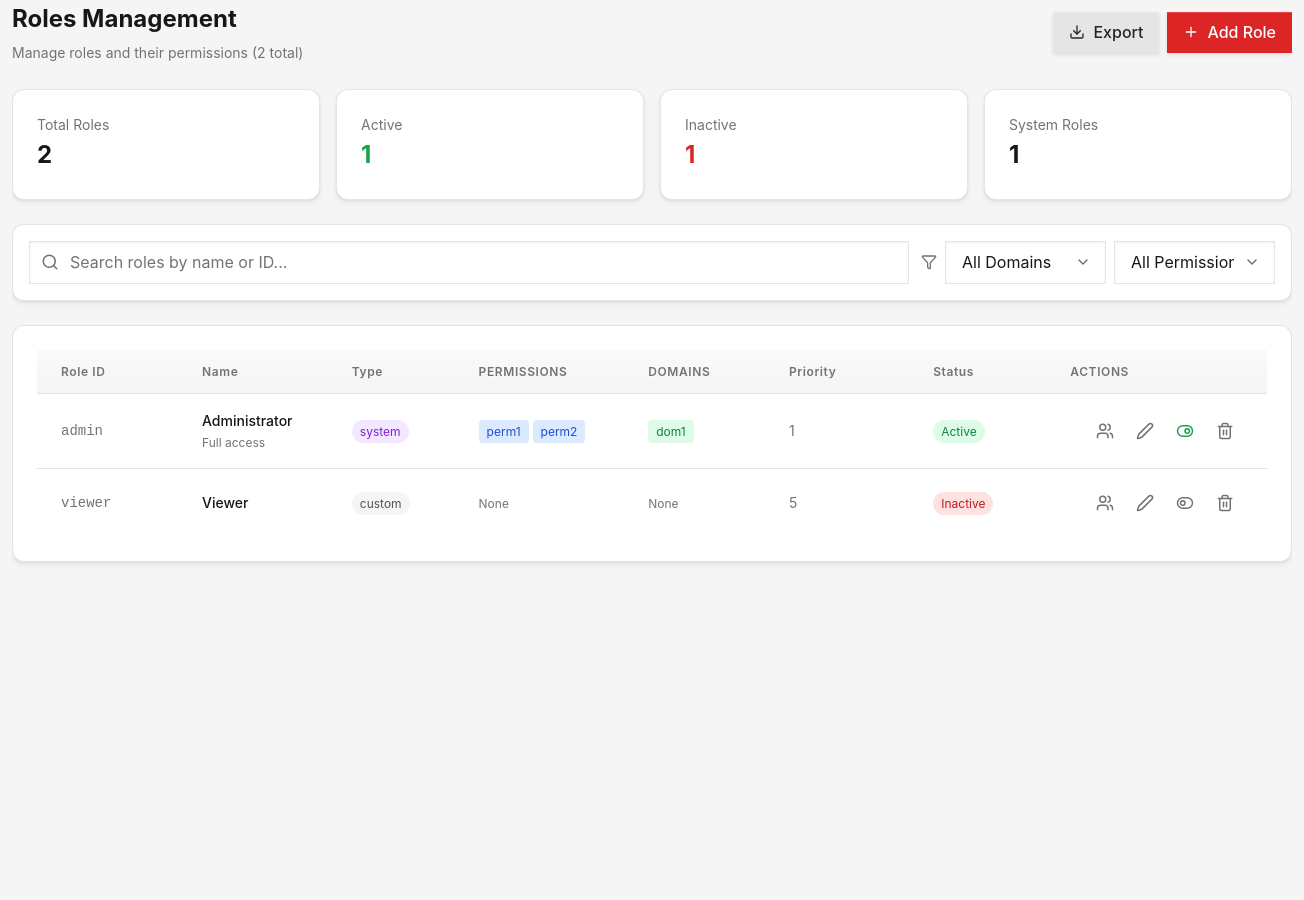
Test case: RolesManagement › handles delete with confirmation
The width and height of the screenshot is (1304, 900).
Expected: the text "Administrator" is shown, [202,410,304,433]
Click the button titled "Delete" in the row of "Administrator". click: (1225, 431)
box: [1207,413,1243,449]
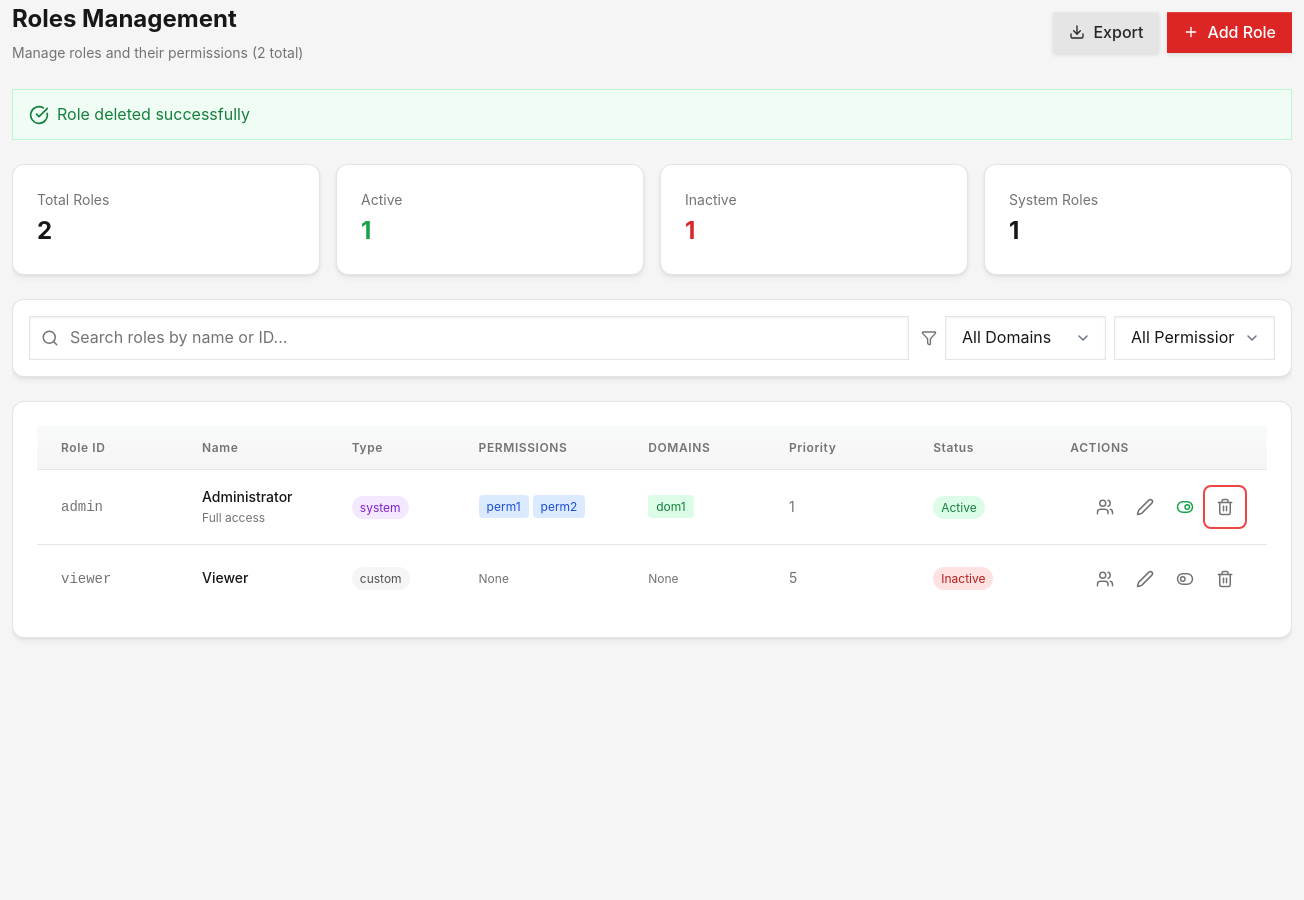
Expected: the text "Role deleted successfully" is shown, [12,89,1292,140]
